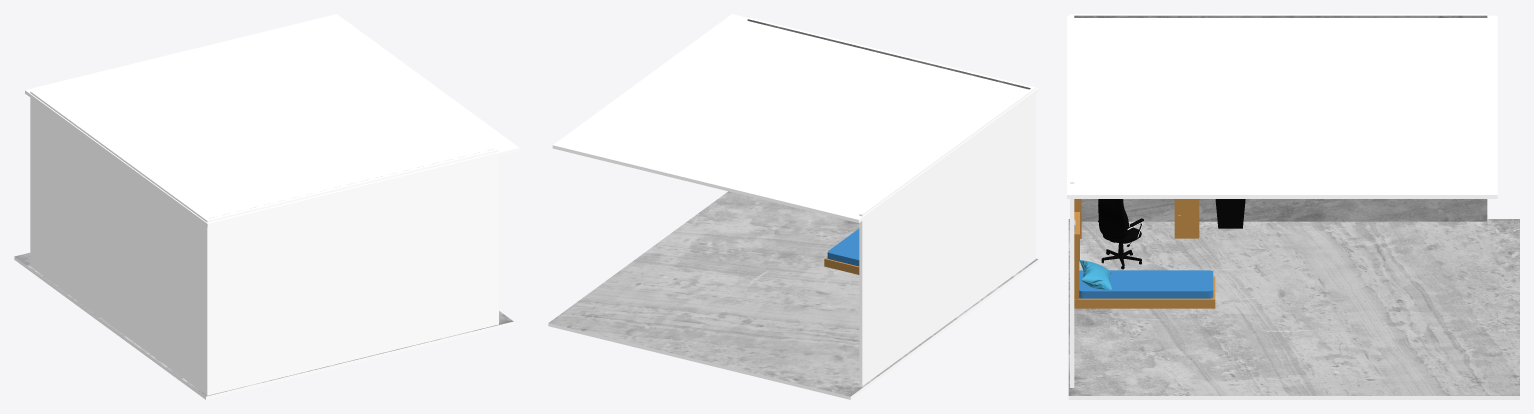
File: spotify-bedroom.glb
The picture shows the model from 3 angles, left to right: view 1: azimuth 30°, elevation 25°; view 2: azimuth 150°, elevation 25°; view 3: azimuth 270°, elevation 25°; orthographic projection. The views are drawn at different scales.
Parts seen in each view (by area): view 1: background; view 2: background, bed; view 3: background, bed, chair, table, trash-can, pillow.
Part boxes in pixels (x1,y1,x2,y2): background: (14,14,519,399); background: (548,14,1038,399); bed: (824,228,859,274); background: (1067,14,1519,399); bed: (1074,212,1215,308); chair: (1098,199,1143,269); table: (1074,199,1199,238); trash-can: (1215,199,1245,228); pillow: (1080,260,1112,289).
Bounding box in the file's own units: 22.43 × 12.2 × 23.85.
12 materials, 6 textured.
